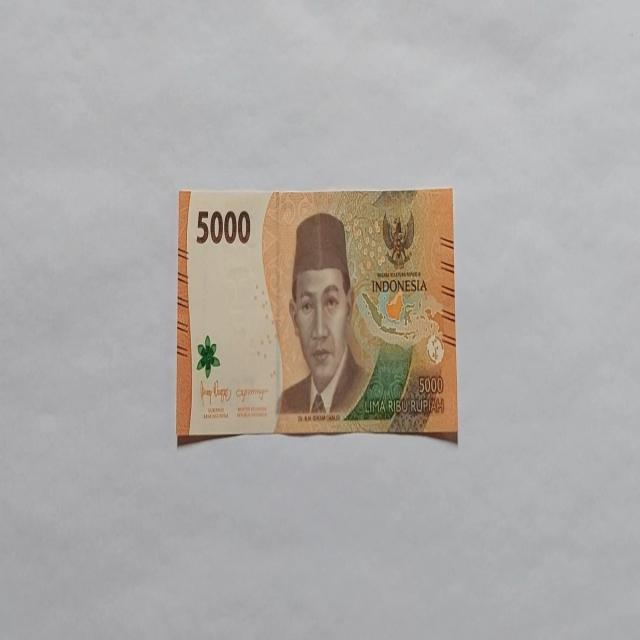lima ribu rupiah: (176, 185, 458, 444), (276, 210, 370, 418)
